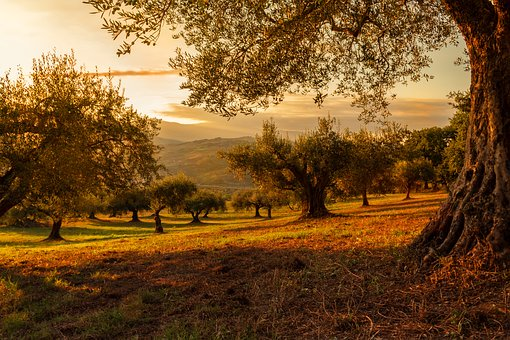forest: (9, 9, 510, 331)
tree: (170, 4, 510, 257), (17, 59, 146, 242)
